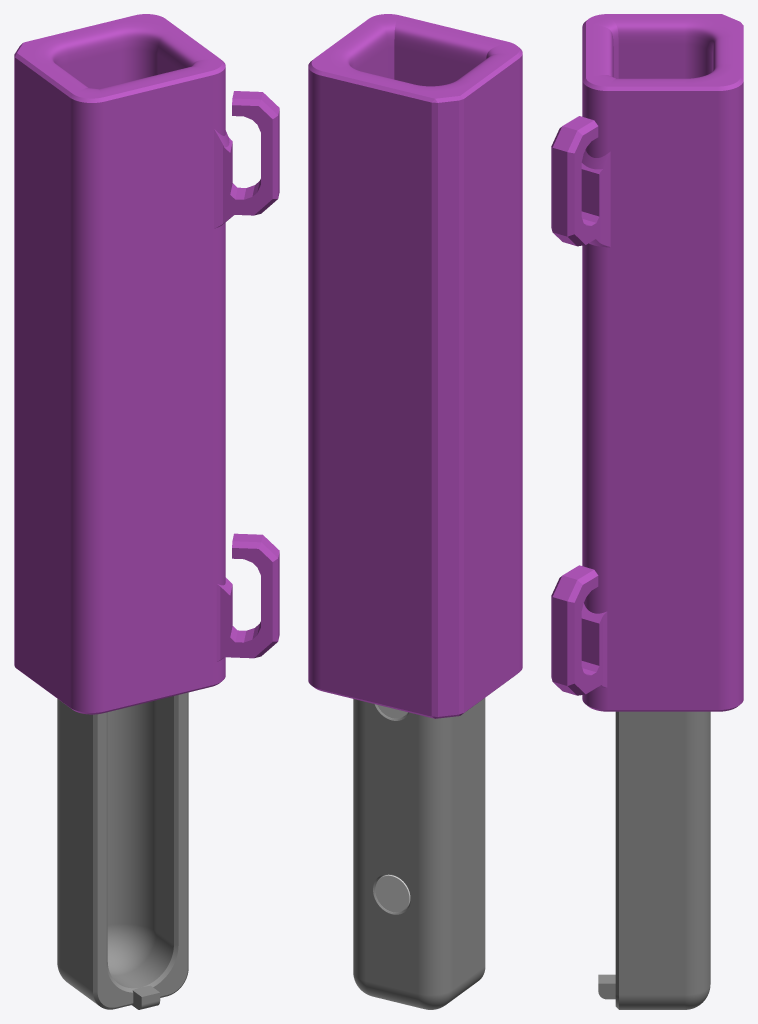
File: both-parts.glb
The picture shows the model from 3 angles, left to right: view 1: azimuth 30°, elevation 25°; view 2: azimuth 150°, elevation 25°; view 3: azimuth 270°, elevation 25°; orthographic projection.
Visible parts, largest first — view 1: Part 1 (×2); view 2: Part 1 (×3); view 3: Part 1 (×2).
Part boxes in pixels (x1,y1,x2,y2): Part 1 (×2): (14,14,279,1009); Part 1 (×3): (308,14,522,1009); Part 1 (×2): (551,14,743,1009).
Bounding box in the file's own units: 0.0655 × 0.307 × 0.0567.
